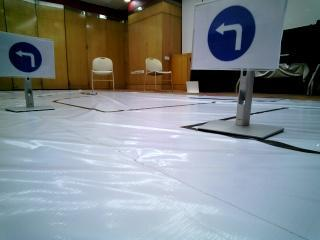left: (195, 5, 281, 70), (2, 32, 52, 78)
